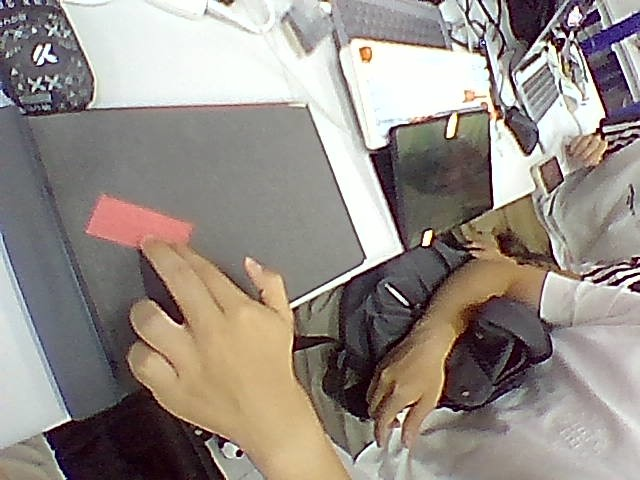card: (85, 194, 193, 247)
